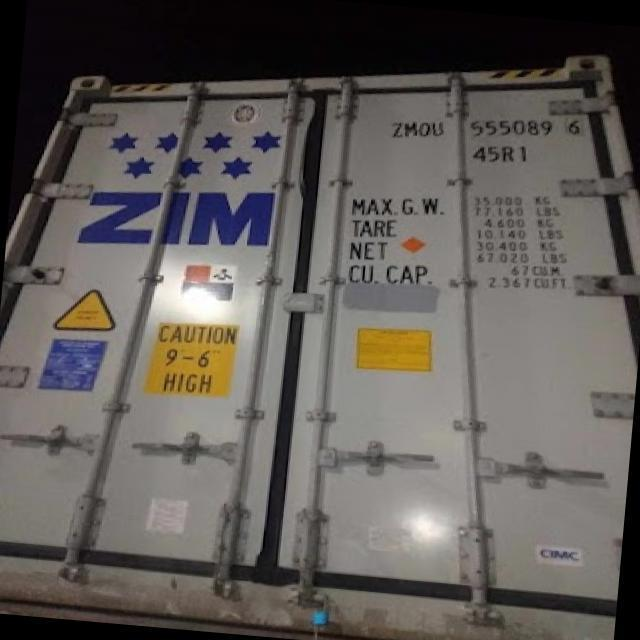ISO: (474, 142, 530, 165)
container_number: (386, 116, 592, 142)
